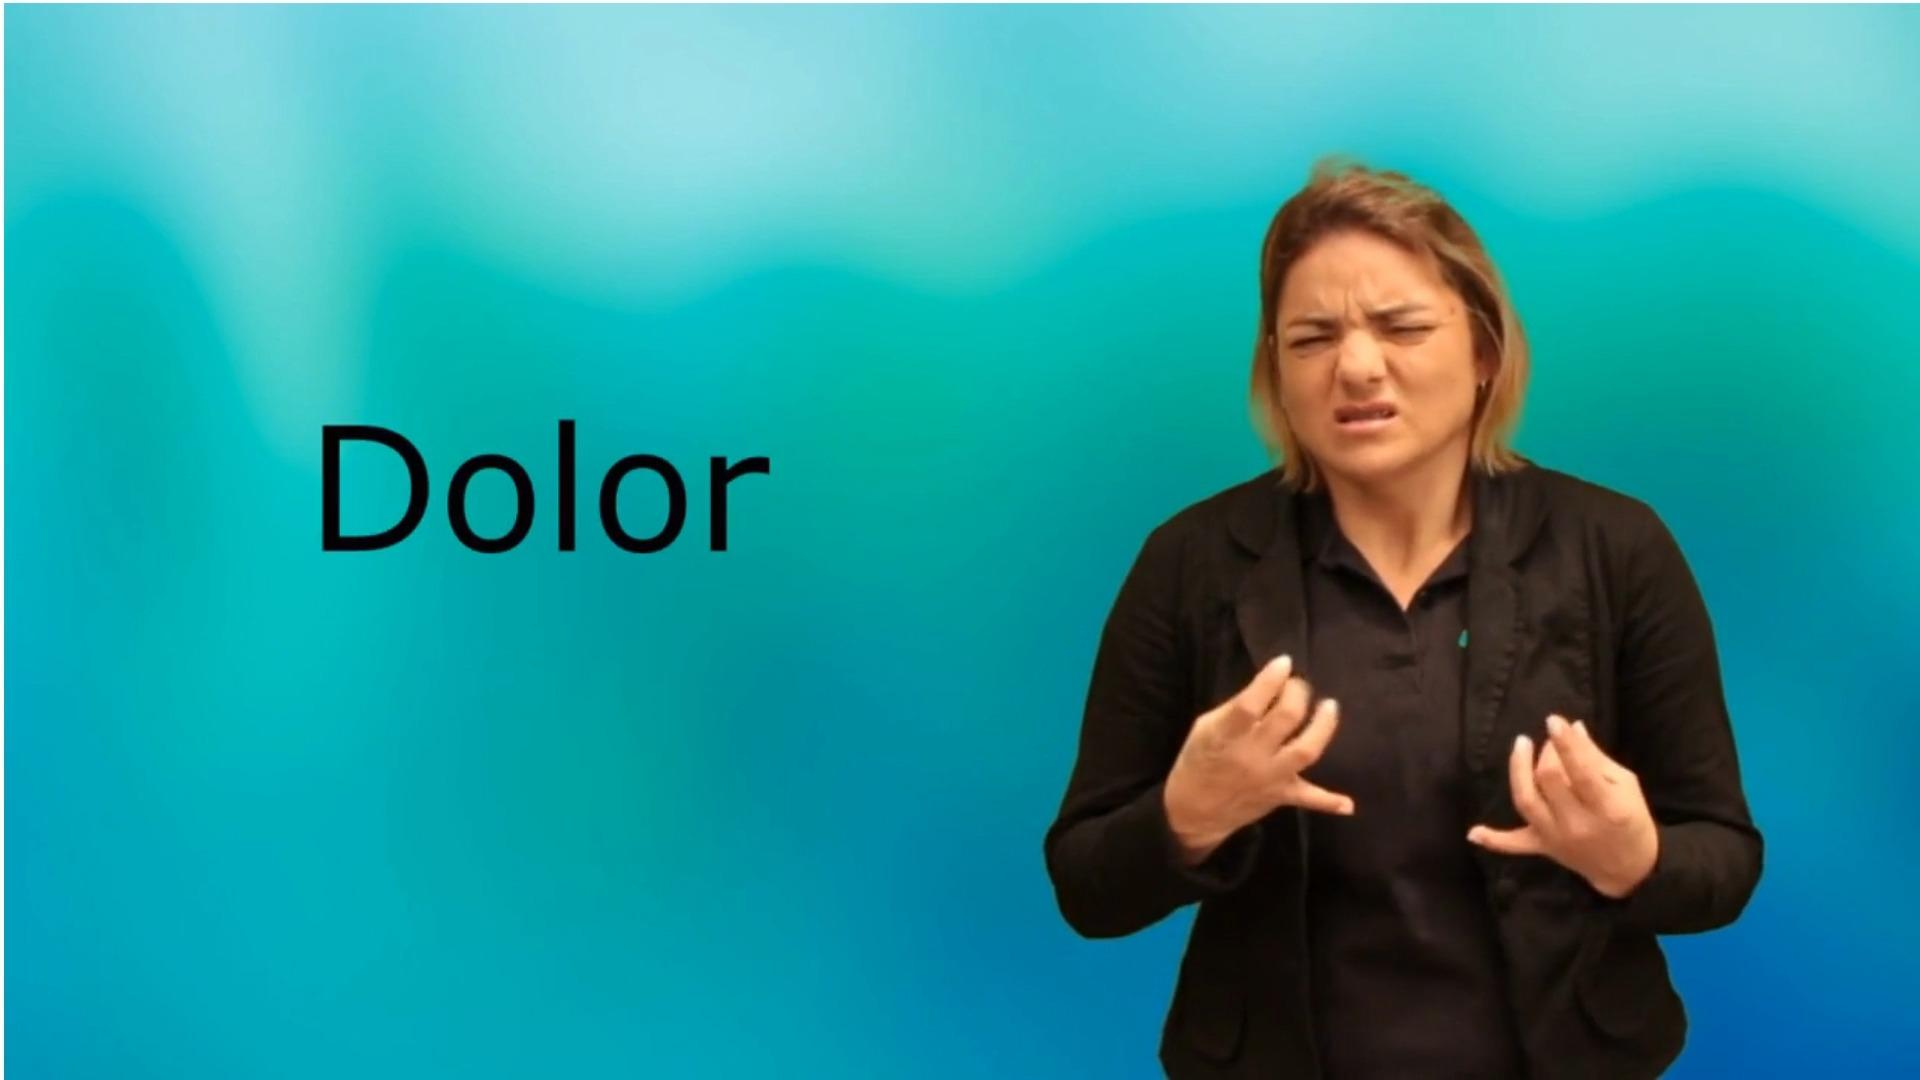Dolor: (1004, 141, 1795, 1016)
